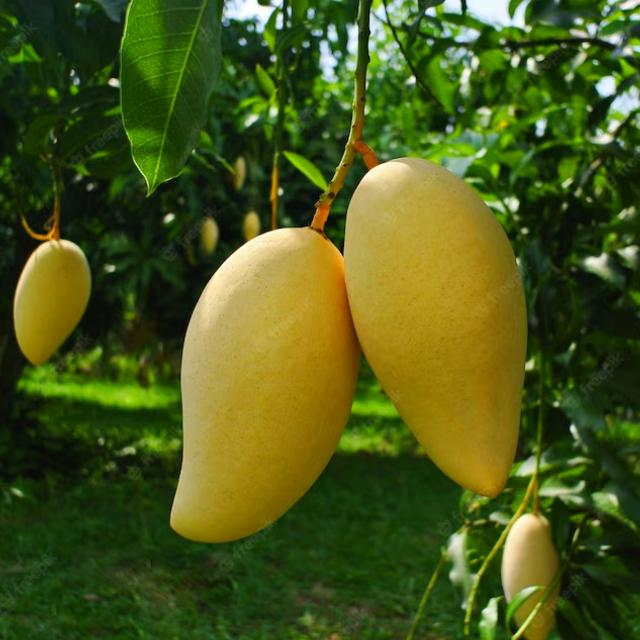mango: (344, 157, 529, 496), (164, 227, 359, 541)
